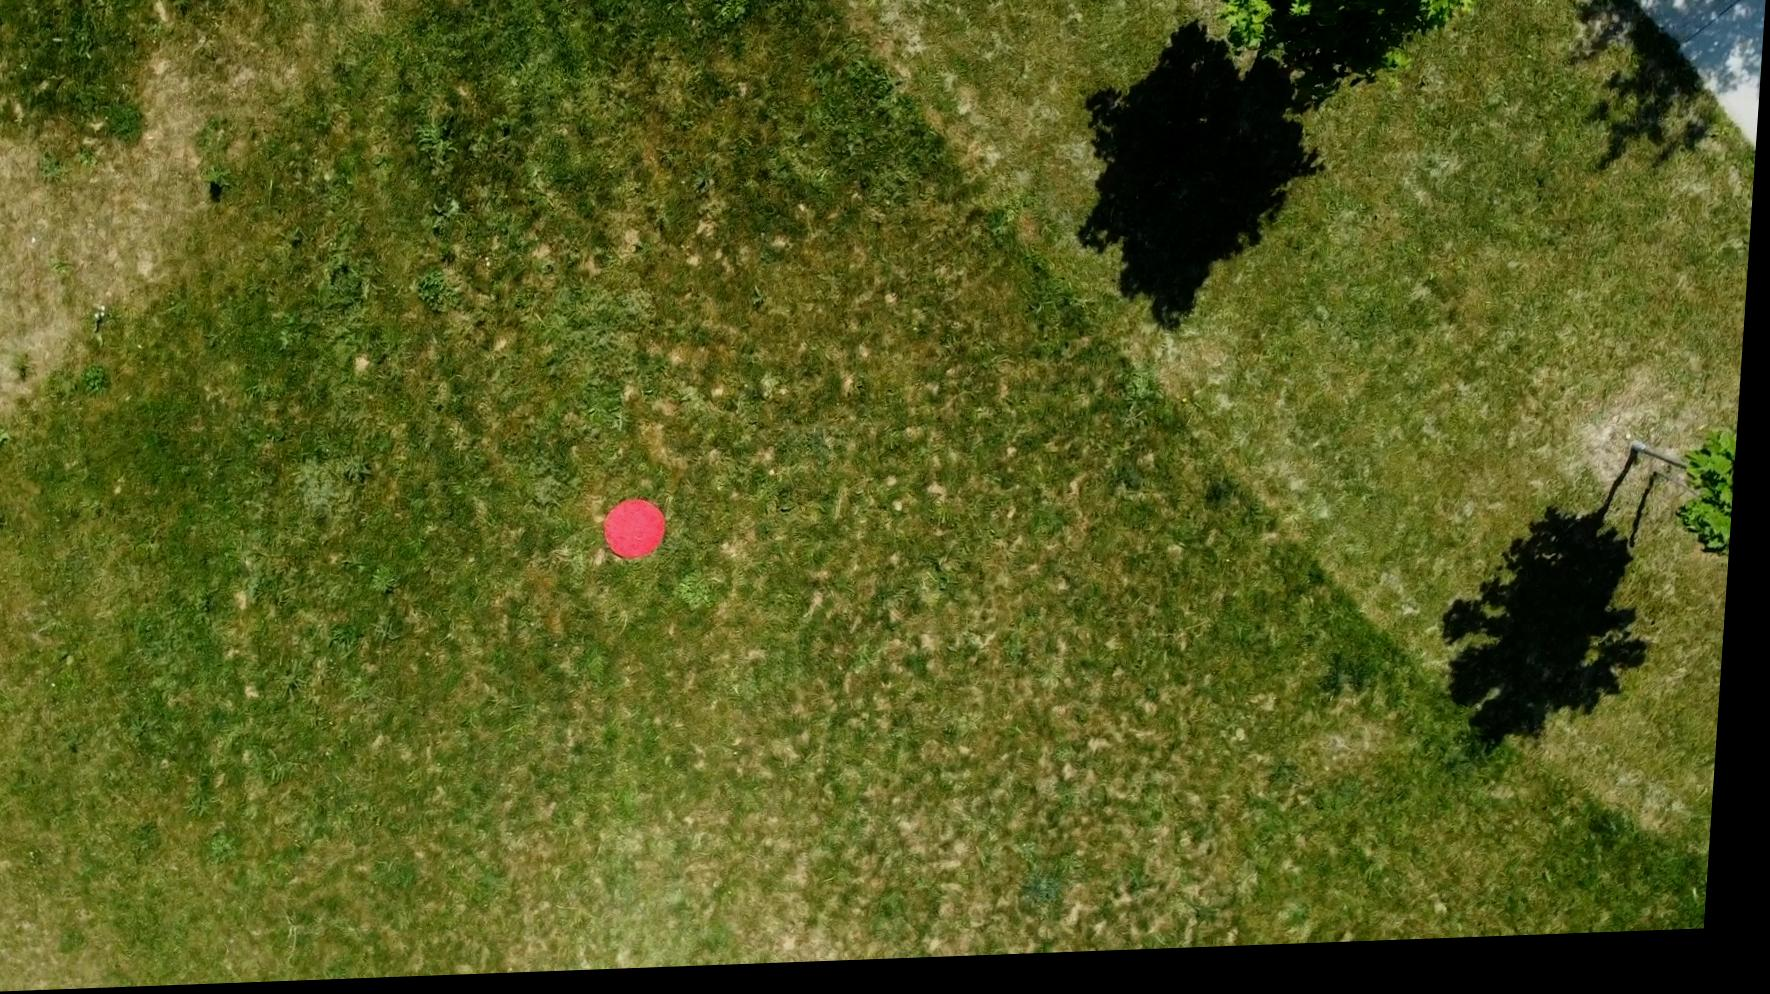Red: (609, 498, 678, 567)
